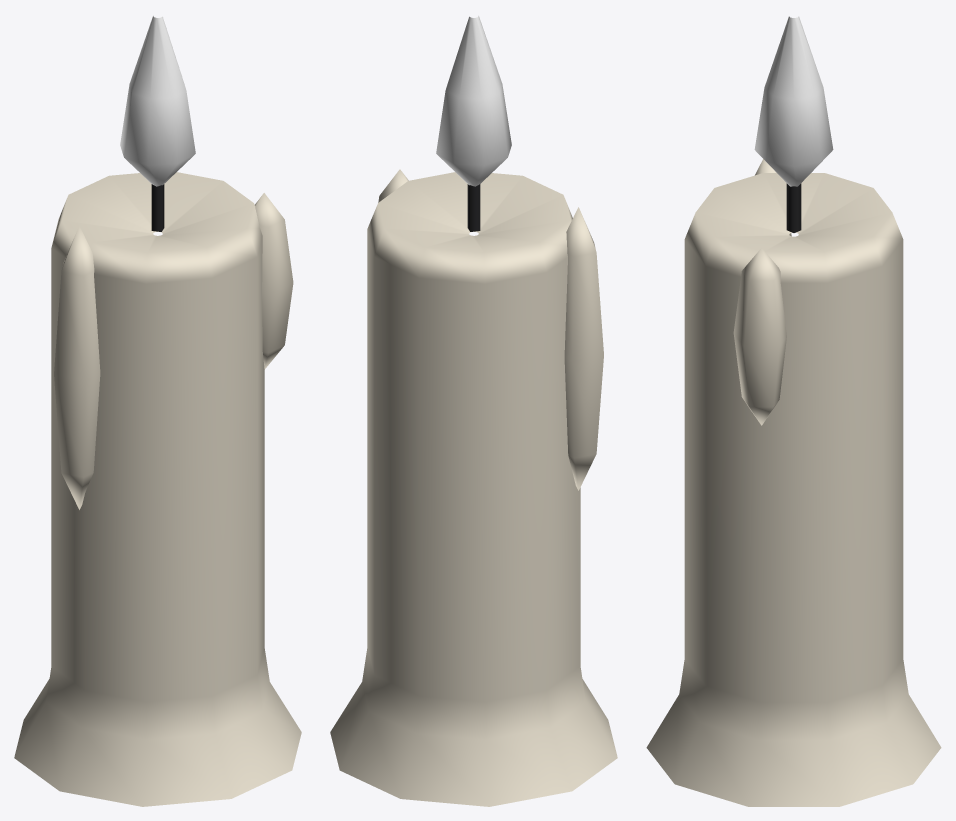
File: CANDLE.glb
3 views of the same model, side by side, from view 1: azimuth 30°, elevation 25°; view 2: azimuth 150°, elevation 25°; view 3: azimuth 270°, elevation 25° (orthographic).
Parts seen in each view (by area): view 1: plastic_0, lamps_2, tread_1; view 2: plastic_0, lamps_2, tread_1; view 3: plastic_0, lamps_2, tread_1.
Part boxes in pixels (x1,y1,x2,y2): plastic_0: [14, 172, 301, 806]; lamps_2: [120, 16, 195, 186]; tread_1: [151, 184, 164, 231]; plastic_0: [330, 169, 617, 806]; lamps_2: [436, 16, 511, 186]; tread_1: [467, 184, 480, 231]; plastic_0: [646, 159, 941, 806]; lamps_2: [754, 16, 833, 186]; tread_1: [786, 183, 801, 232].
Size of the model in its own units: 0.057 by 0.164 by 0.0599.
